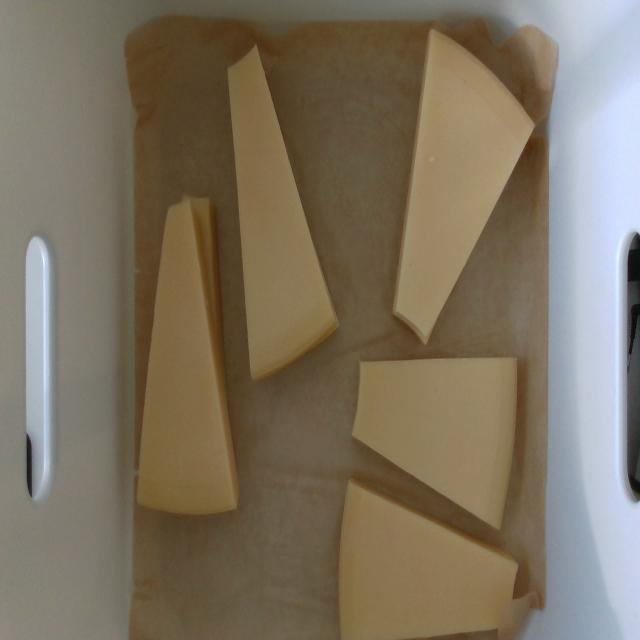Cheese: (393, 30, 534, 343), (228, 49, 338, 379), (140, 205, 234, 514), (340, 481, 517, 639), (352, 359, 516, 528)
